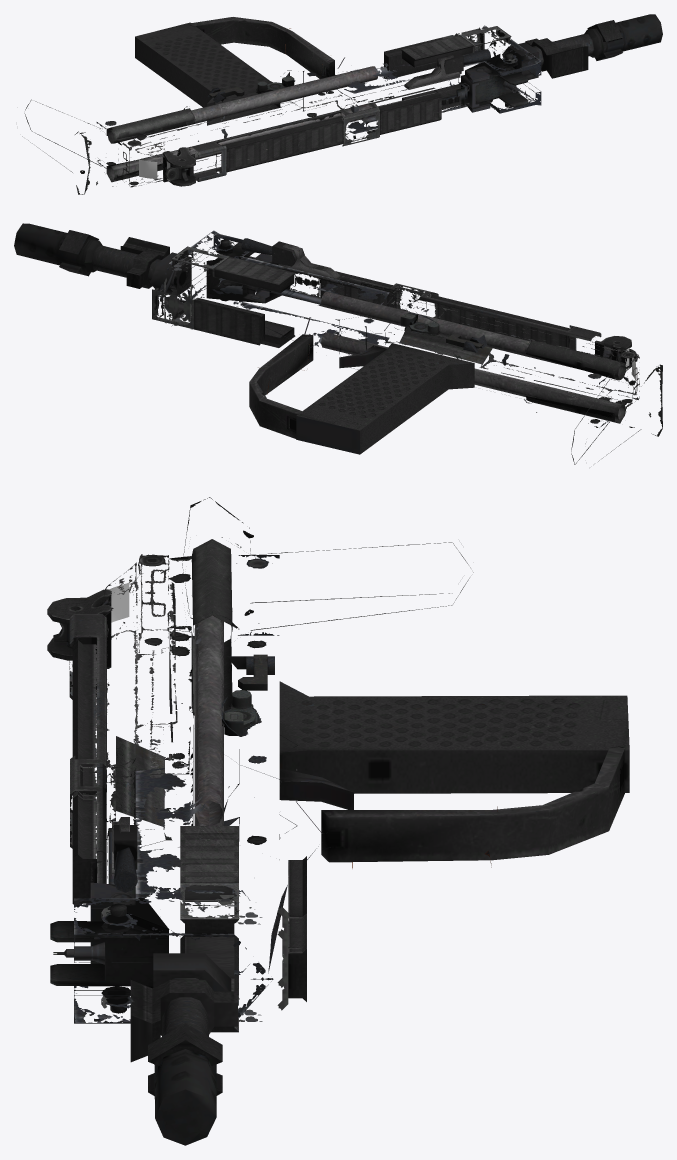
Rendered from t6_wpn_smg_msmc_world_LOD0.obj.
The picture shows the model from 3 angles, top to bottom: view 1: azimuth 30°, elevation 25°; view 2: azimuth 150°, elevation 25°; view 3: azimuth 270°, elevation 25°; orthographic projection. The views are drawn at different scales.
Visible parts, largest first — view 1: mtl_t6_wpn_smg_msmc_camo1, mtl_t6_wpn_smg_msmc_camo3, mtl_t6_wpn_smg_msmc_camo2, mtl_t6_wpn_smg_msmc_camo4, mtl_player_icon_world; view 2: mtl_t6_wpn_smg_msmc_camo1, mtl_t6_wpn_smg_msmc_camo3, mtl_t6_wpn_smg_msmc_camo2, mtl_t6_wpn_smg_msmc_camo4; view 3: mtl_t6_wpn_smg_msmc_camo1, mtl_t6_wpn_smg_msmc_camo2, mtl_t6_wpn_smg_msmc_camo3, mtl_t6_wpn_smg_msmc_camo4.
Boxes of the visible parts, x1,y1,x2,y2 form: mtl_t6_wpn_smg_msmc_camo1: (98, 14, 662, 187); mtl_t6_wpn_smg_msmc_camo3: (106, 17, 622, 182); mtl_t6_wpn_smg_msmc_camo2: (22, 22, 541, 194); mtl_t6_wpn_smg_msmc_camo4: (190, 87, 434, 181); mtl_player_icon_world: (139, 159, 157, 178); mtl_t6_wpn_smg_msmc_camo1: (14, 223, 639, 419); mtl_t6_wpn_smg_msmc_camo3: (59, 230, 629, 438); mtl_t6_wpn_smg_msmc_camo2: (158, 230, 662, 464); mtl_t6_wpn_smg_msmc_camo4: (318, 276, 600, 341); mtl_t6_wpn_smg_msmc_camo1: (47, 551, 353, 1145); mtl_t6_wpn_smg_msmc_camo2: (69, 497, 629, 1023); mtl_t6_wpn_smg_msmc_camo3: (82, 539, 624, 1061); mtl_t6_wpn_smg_msmc_camo4: (69, 614, 106, 883).
Bounding box in the file's own units: 50.01 × 5.73 × 22.09.
